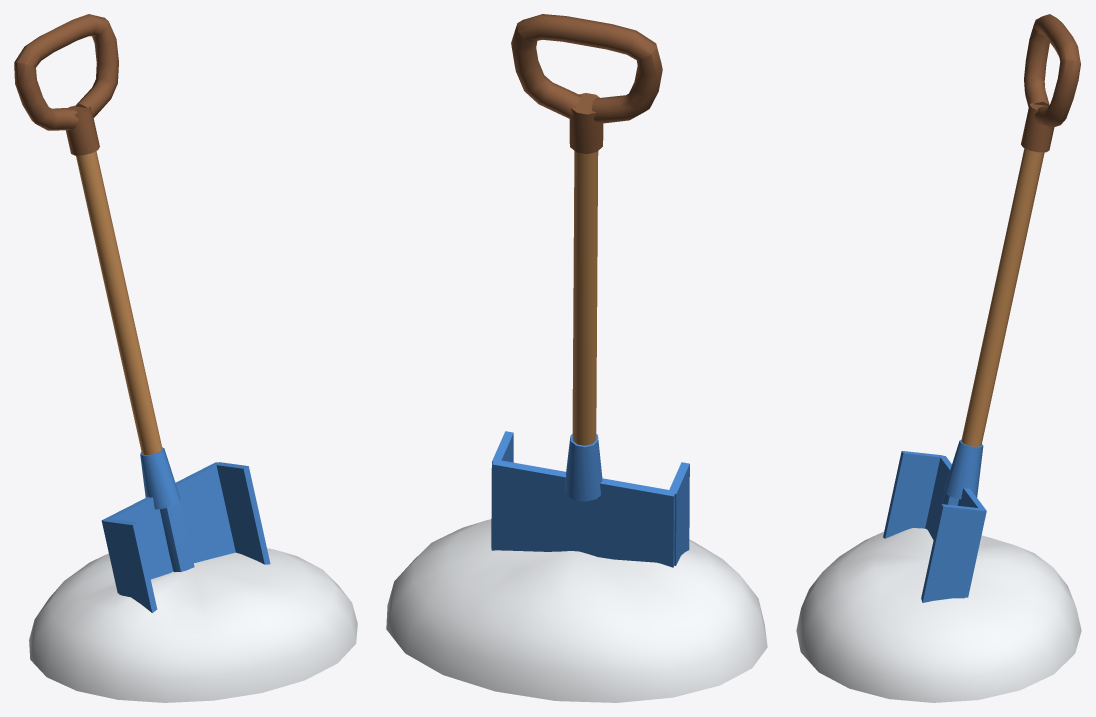
The model's file is SnowShovel.obj.
3 views of the same model, side by side, from view 1: azimuth 30°, elevation 25°; view 2: azimuth 150°, elevation 25°; view 3: azimuth 270°, elevation 25° (orthographic). The views are drawn at different scales.
Visible parts, largest first — view 1: SnowShovel; view 2: SnowShovel; view 3: SnowShovel.
Part boxes in pixels (left/top/right/bottom): SnowShovel: left=14, top=14, right=357, bottom=702; SnowShovel: left=386, top=14, right=767, bottom=702; SnowShovel: left=796, top=14, right=1081, bottom=702.
Bounding box in the file's own units: 5.5 × 10.36 × 4.68.
1 material, 1 textured.
